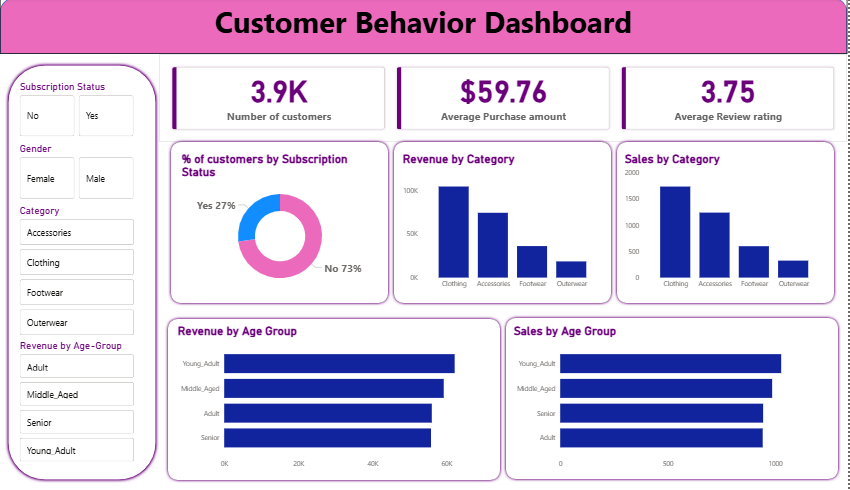

Layout of this report page (visuals, bound fields, positions):
{"tool":"powerbi","page":{"name":"Page 1","canvas":[1550,900],"ordinal":0},"visuals":[{"type":"cardVisual","fields":{"Data":["customer_behaviour_analysis customer.Number of customer","customer_behaviour_analysis customer.Average Purchase amount","customer_behaviour_analysis customer.Average Review rating"]},"box":[290.2,101.9,1259.5,162.4],"z":0},{"type":"shape","box":[0,0,1549.7,101.9],"z":1000},{"type":"textbox","box":[0,0,1549.7,101.9],"z":2000},{"type":"shape","box":[307.3,257.9,407.9,305.5],"z":3000},{"type":"donutChart","title":"% of customers by Subscription Status","fields":{"Category":["customer_behaviour_analysis customer.subscription_status"],"Y":["customer_behaviour_analysis customer.Number of customers"]},"box":[327.4,281.7,369.5,259.8],"z":4000},{"type":"shape","box":[9.1,117.1,281.7,770.1],"z":5000},{"type":"advancedSlicerVisual","title":"Subscription Status","fields":{"Values":["customer_behaviour_analysis customer.subscription_status"]},"box":[31.1,151.8,219.5,106.1],"z":6000},{"type":"advancedSlicerVisual","title":"Gender","fields":{"Values":["customer_behaviour_analysis customer.gender"]},"box":[31.1,265.2,219.5,107.9],"z":7000},{"type":"advancedSlicerVisual","title":"Category","fields":{"Values":["customer_behaviour_analysis customer.category"]},"box":[31.1,378.7,219.5,247],"z":8000},{"type":"shape","box":[301.8,581.7,618.3,305.5],"z":9000},{"type":"shape","box":[715.2,257.9,407.9,305.5],"z":10000},{"type":"shape","box":[1123.2,257.9,407.9,305.5],"z":11000},{"type":"advancedSlicerVisual","title":"Revenue by Age-Group","fields":{"Values":["customer_behaviour_analysis customer.age_group"]},"box":[31.1,625.6,219.5,230.5],"z":12000},{"type":"clusteredColumnChart","title":"Sales by Category","fields":{"Y":["customer_behaviour_analysis customer.Number of customers"],"Category":["customer_behaviour_analysis customer.category"]},"box":[1137.8,281.7,376.8,259.8],"z":13000},{"type":"clusteredColumnChart","title":"Revenue by Category","fields":{"Category":["customer_behaviour_analysis customer.category"],"Y":["Sum(customer_behaviour_analysis customer.purchase_amount)"]},"box":[731.7,281.7,376.8,259.8],"z":14000},{"type":"clusteredBarChart","title":"Revenue by Age Group","fields":{"Category":["customer_behaviour_analysis customer.age_group"],"Y":["Sum(customer_behaviour_analysis customer.purchase_amount)"]},"box":[320.1,596.3,579.9,274.4],"z":15000},{"type":"shape","box":[920.1,579.9,618.3,305.5],"z":16000},{"type":"clusteredBarChart","title":"Sales by Age Group","fields":{"Category":["customer_behaviour_analysis customer.age_group"],"Y":["customer_behaviour_analysis customer.Number of customers"]},"box":[934.8,596.3,579.9,274.4],"z":17000}]}

Visuals, with their boxes in screenshot pixels (x1, y1, x2, y2), scaled from the page's 1550x900 canvas onto the 850x490 screenshot:
cardVisual - customer_behaviour_analysis customer.Number of customer x customer_behaviour_analysis customer.Average Purchase amount: box(159, 55, 849, 144)
shape: box(0, 0, 849, 55)
textbox: box(0, 0, 849, 55)
shape: box(169, 140, 392, 307)
"% of customers by Subscription Status" donutChart: box(180, 153, 382, 295)
shape: box(5, 64, 159, 483)
"Subscription Status" advancedSlicerVisual: box(17, 83, 137, 140)
"Gender" advancedSlicerVisual: box(17, 144, 137, 203)
"Category" advancedSlicerVisual: box(17, 206, 137, 341)
shape: box(166, 317, 505, 483)
shape: box(392, 140, 616, 307)
shape: box(616, 140, 840, 307)
"Revenue by Age-Group" advancedSlicerVisual: box(17, 341, 137, 466)
"Sales by Category" clusteredColumnChart: box(624, 153, 831, 295)
"Revenue by Category" clusteredColumnChart: box(401, 153, 608, 295)
"Revenue by Age Group" clusteredBarChart: box(176, 325, 494, 474)
shape: box(505, 316, 844, 482)
"Sales by Age Group" clusteredBarChart: box(513, 325, 831, 474)
